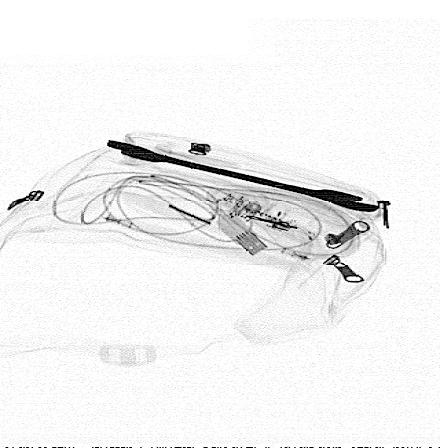Wrench: (108, 139, 380, 213)
